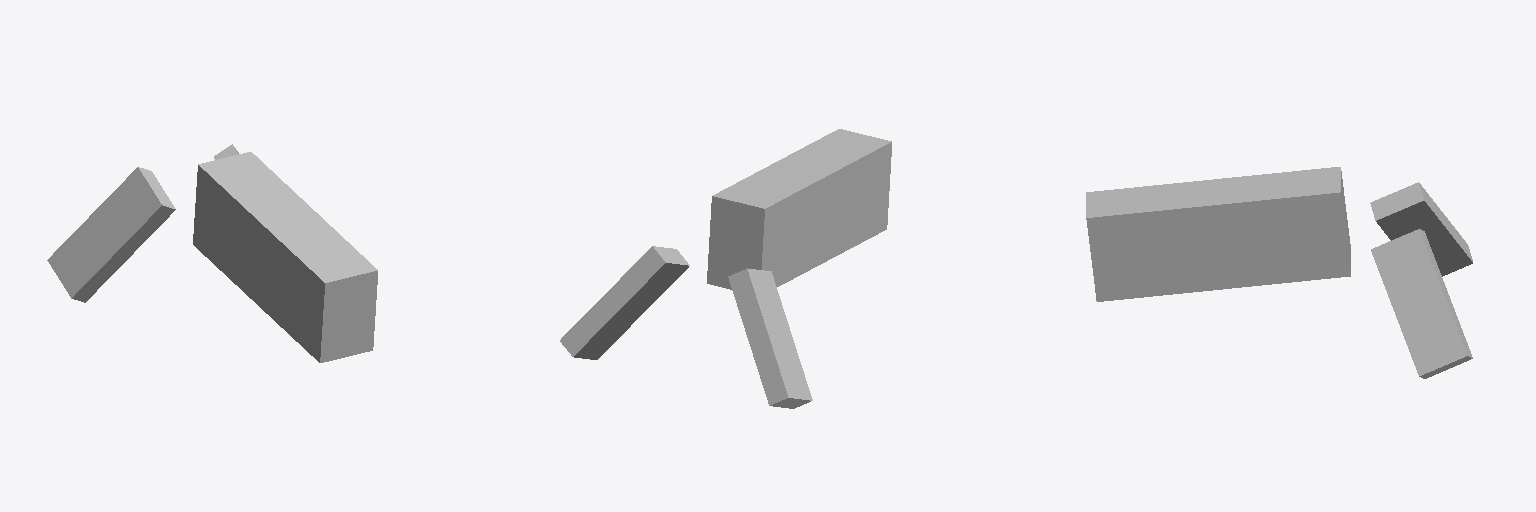
File: AsteroidBlaster.obj
The picture shows the model from 3 angles: view 1: azimuth 30°, elevation 25°; view 2: azimuth 150°, elevation 25°; view 3: azimuth 270°, elevation 25°; orthographic projection.
Parts seen in each view (by area): view 1: Cube; view 2: Cube; view 3: Cube.
Part boxes in pixels (bbox=[...]): Cube: bbox=[47, 144, 377, 362]; Cube: bbox=[560, 129, 891, 408]; Cube: bbox=[1086, 167, 1472, 378].
Size of the model in its own units: 6.82 by 4.32 by 9.97.